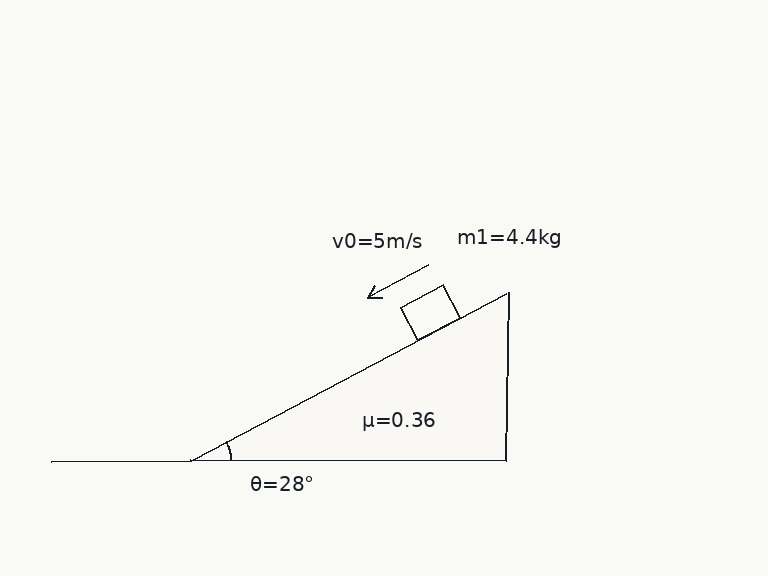block: (398, 283, 462, 342)
ramp: (189, 290, 508, 462)
